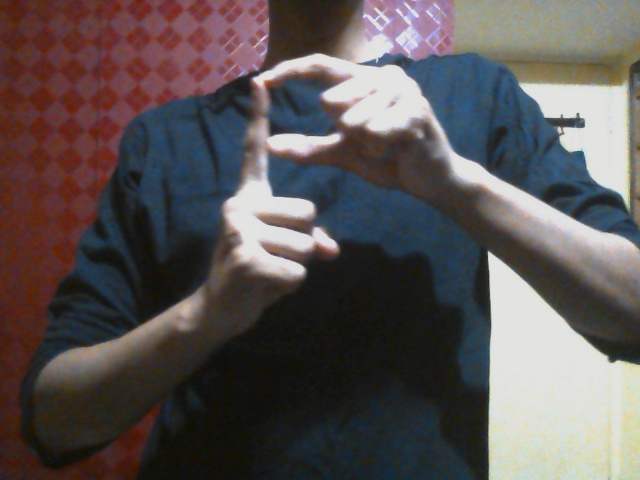P: (210, 52, 442, 331)
